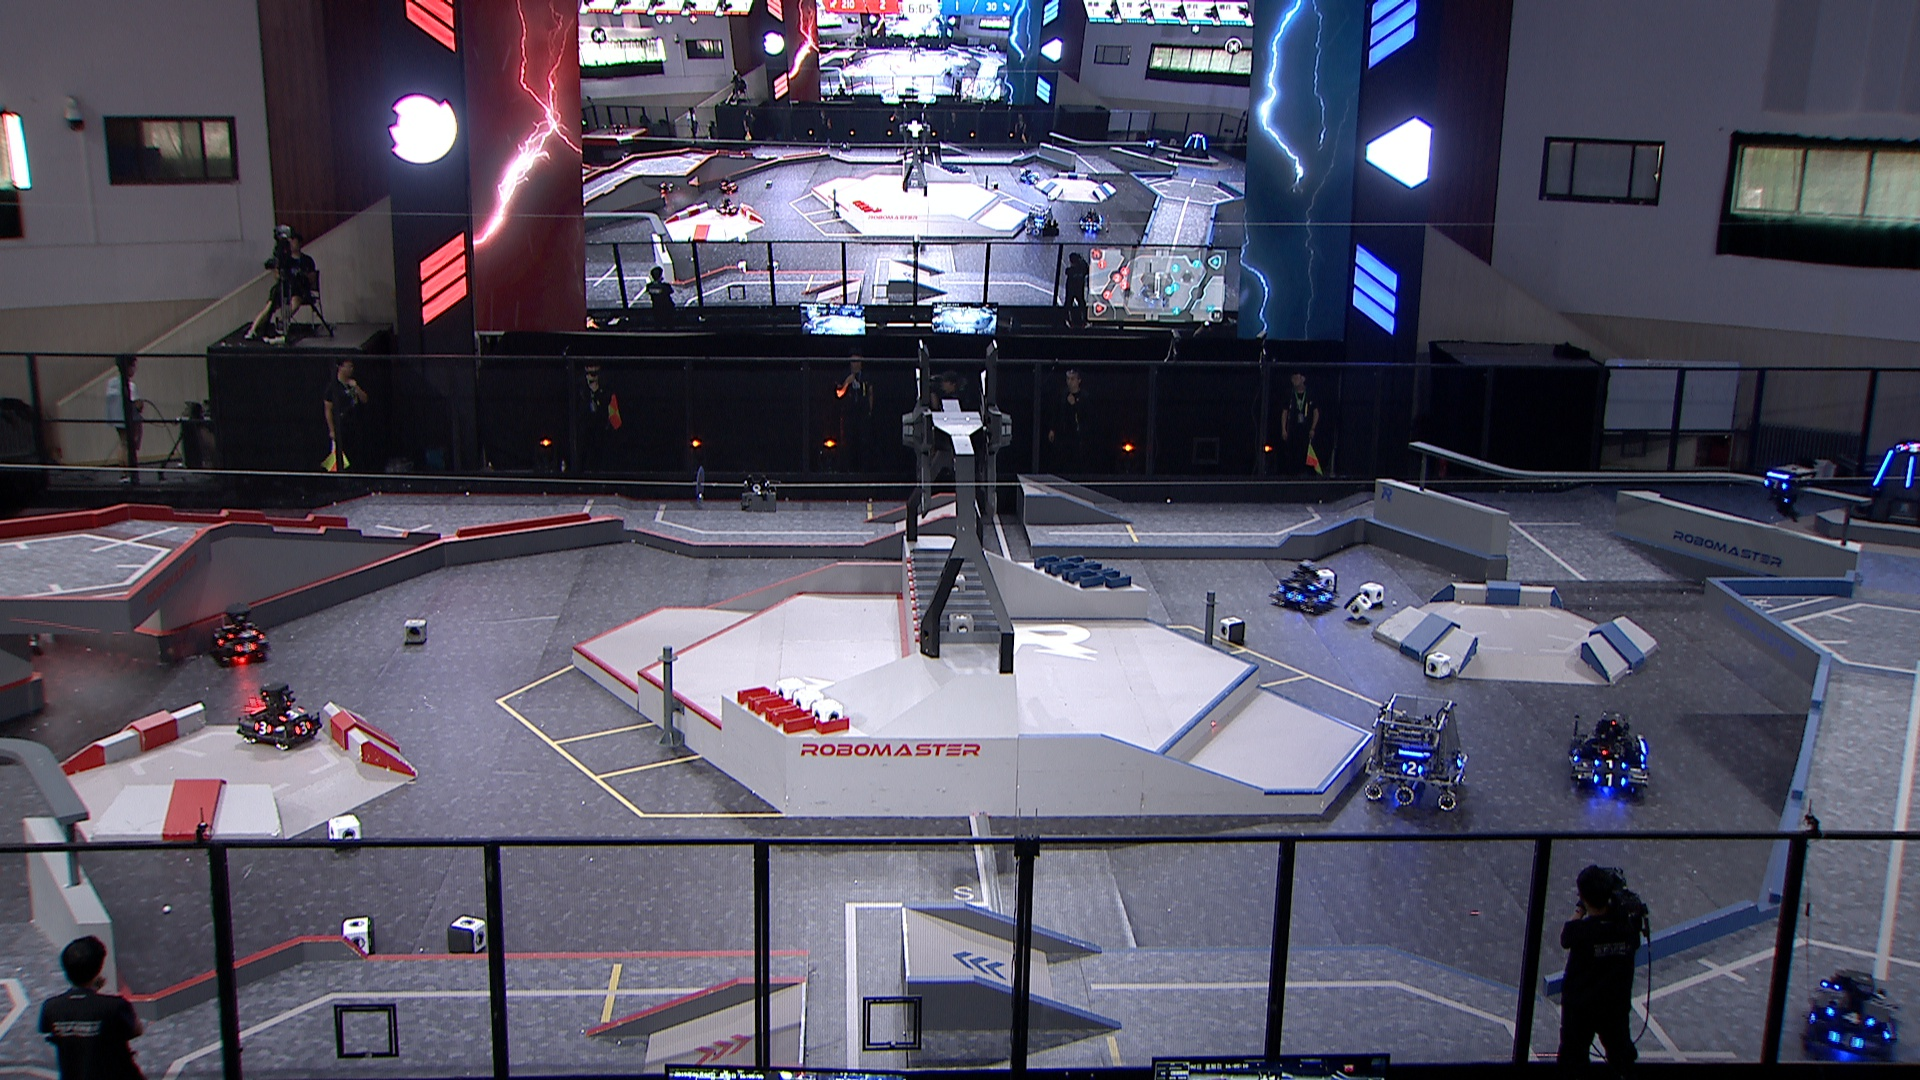armor: (1825, 1007, 1876, 1029), (1871, 450, 1898, 488), (1828, 1030, 1869, 1052), (1594, 771, 1629, 789), (1593, 756, 1629, 771), (276, 707, 309, 723), (1399, 760, 1425, 779), (1760, 479, 1789, 495), (1879, 1025, 1902, 1043), (253, 719, 276, 736), (1905, 456, 1916, 489), (225, 629, 258, 640), (1286, 589, 1305, 605), (291, 723, 314, 736), (1567, 745, 1581, 765), (235, 642, 257, 654), (1316, 589, 1333, 604), (1455, 750, 1466, 770), (1307, 580, 1325, 591)
base: (1847, 442, 1920, 531)
car: (1366, 688, 1470, 812), (1804, 971, 1904, 1064), (1567, 712, 1651, 796), (235, 680, 320, 752), (1271, 562, 1342, 617), (214, 603, 272, 665)
ignore: (1026, 204, 1058, 237), (1178, 131, 1211, 160), (1077, 207, 1105, 232), (717, 175, 740, 196), (717, 196, 740, 216), (1017, 167, 1040, 186), (1145, 138, 1160, 158), (659, 181, 675, 200), (1902, 442, 1920, 455)
watcher: (1760, 463, 1818, 524)
